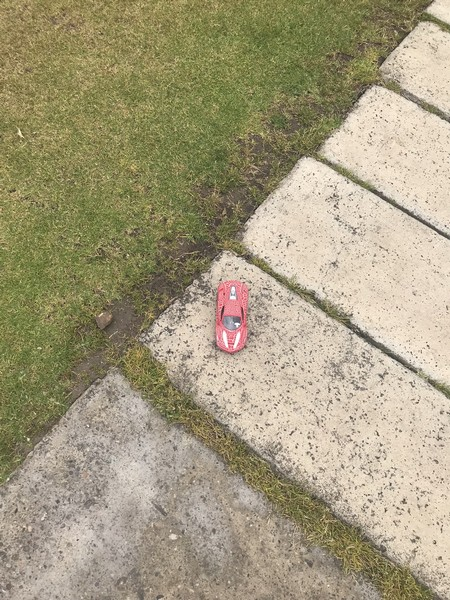RC: (213, 278, 250, 352)
